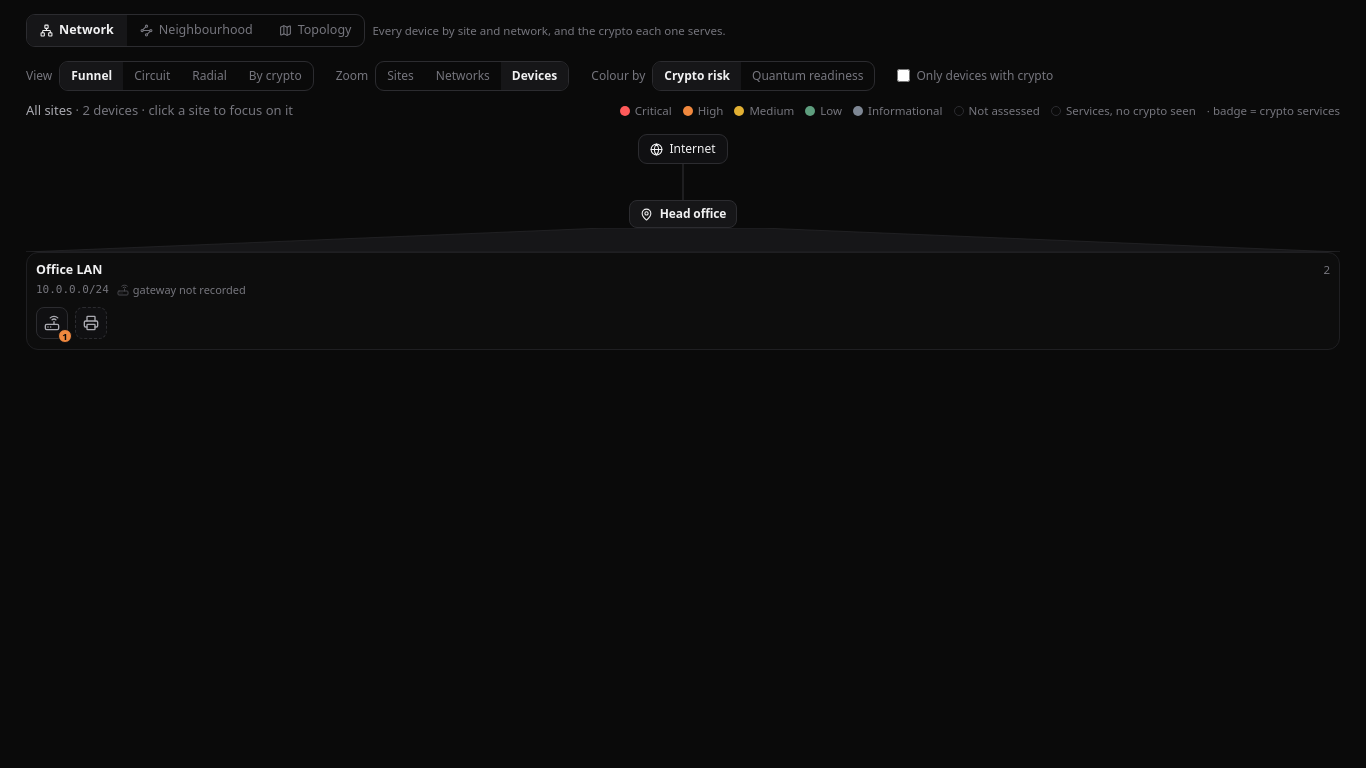
Test: links the exploded device to its faceplate
Click the button with test id "network-map-tile" showing "1".
click(52, 322)  # box [36,306,68,338]
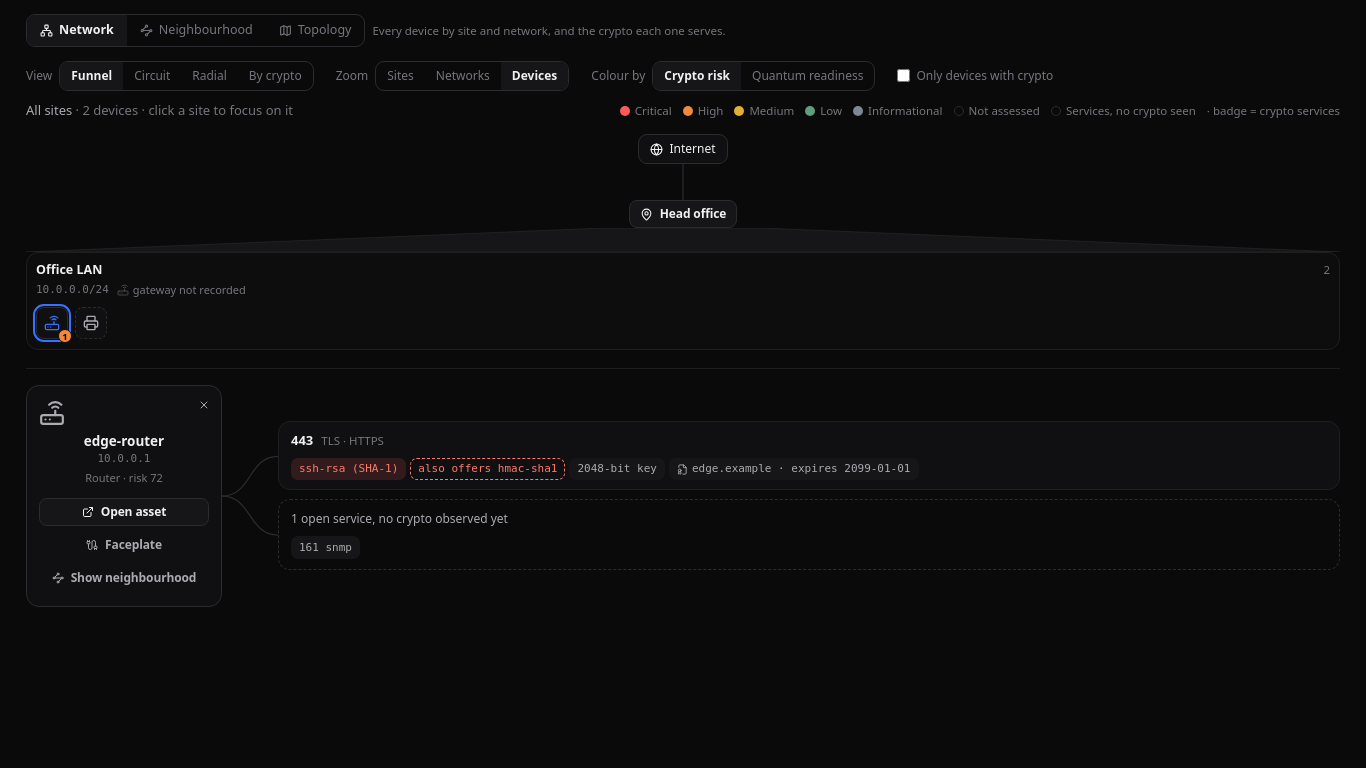
expect the link with test id "exploded-faceplate" reads "Faceplate": met, box [86,536,162,553]
